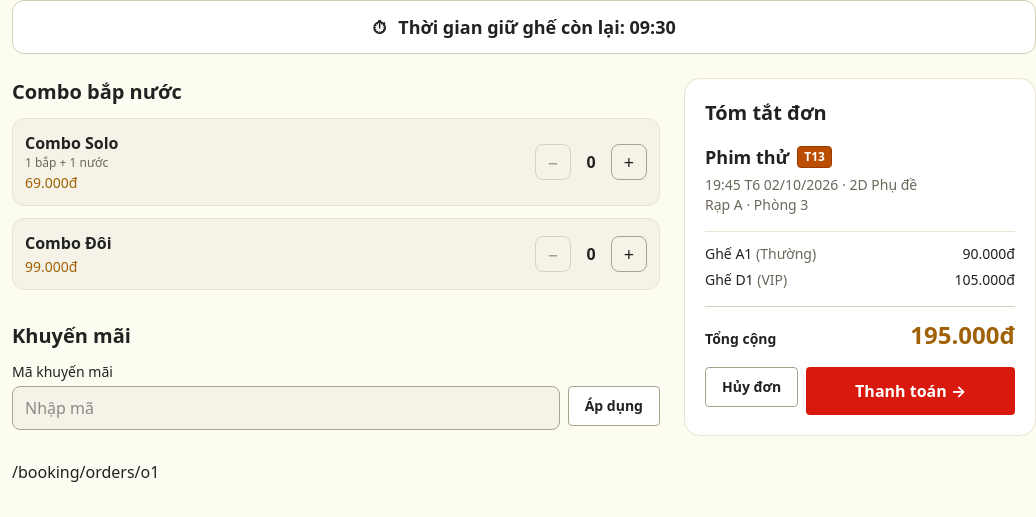
Scenario: CheckoutPage (P06) › mã bị từ chối với lý do NOT_STARTED: hiện thông báo tiếng Việt đúng lý do
The width and height of the screenshot is (1036, 517).
Expected: the heading "Phim thử" is shown, x1=705 y1=143 x2=789 y2=171
Step 1. Type "abc" into the field labelled "Mã khuyến mãi" → (286, 408), box x1=12 y1=386 x2=560 y2=430
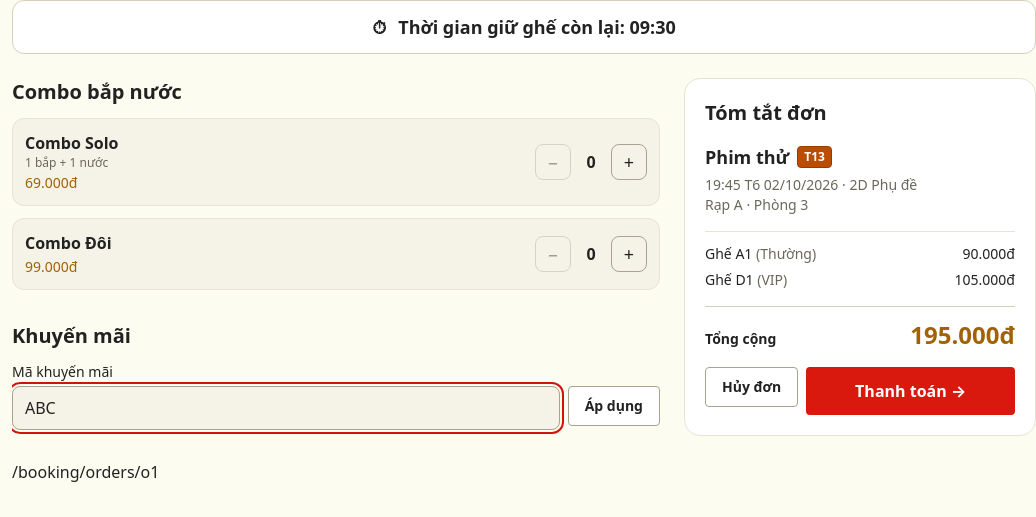
Step 2. Click the button "Áp dụng" → (614, 406), box x1=568 y1=386 x2=660 y2=426
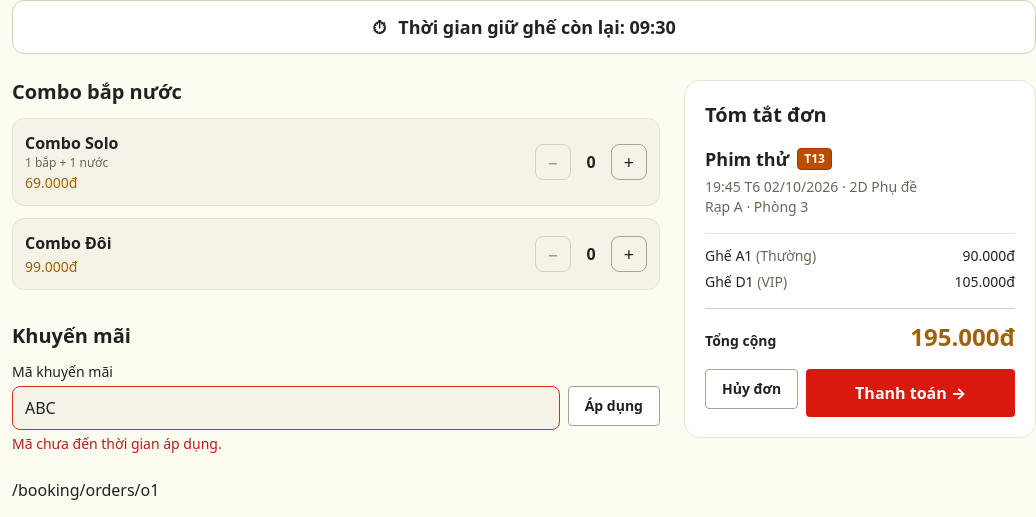
Expected: the text with test id "order-total" reads "195.000đ", x1=910 y1=320 x2=1015 y2=353
Expected: the text "Mã chưa đến thời gian áp dụng." is shown, x1=12 y1=434 x2=222 y2=453
